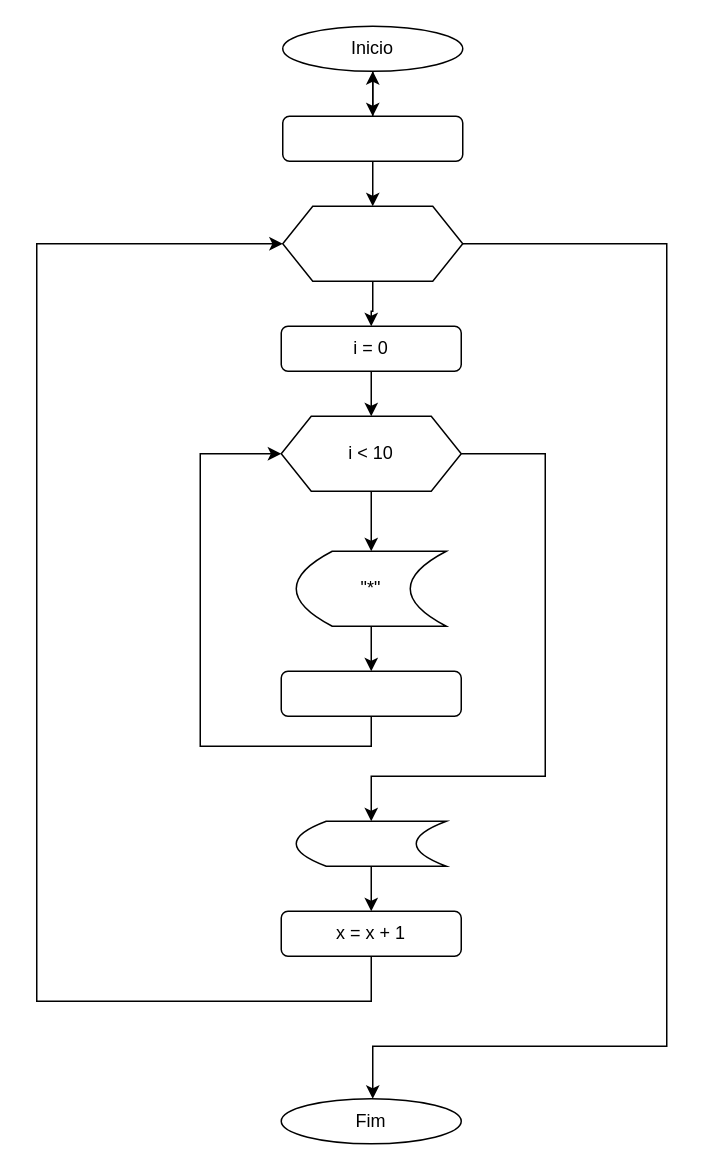
Some shapes in this 705 by 1170 pixel diagram are drawn without their labels. Here are the shapes that lost their labels. From the top down, the centre of each, then its label:
[372,138]: x = 0
[372,243]: x < 5
[370,693]: i = i + 1
